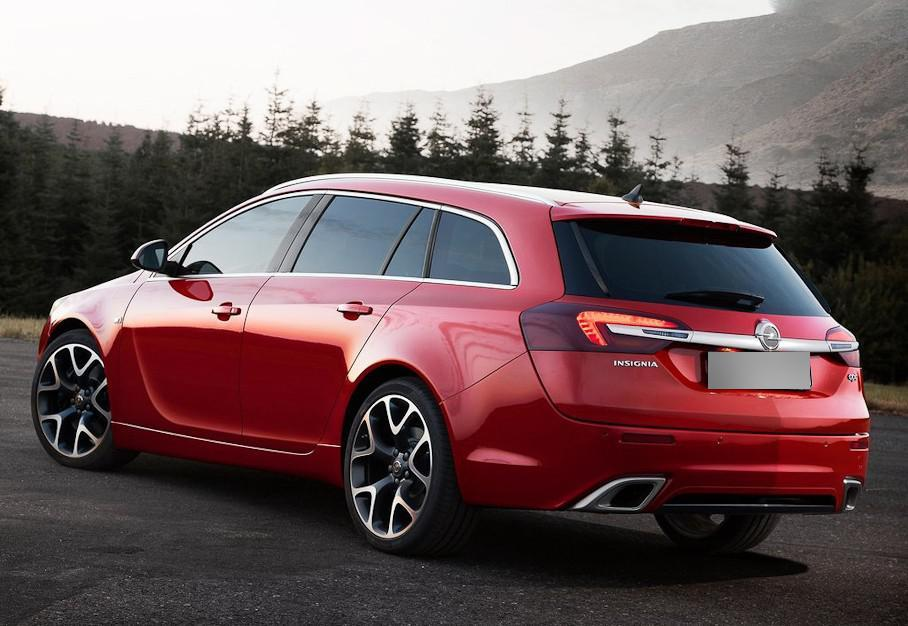Wagon: (30, 171, 871, 559)
